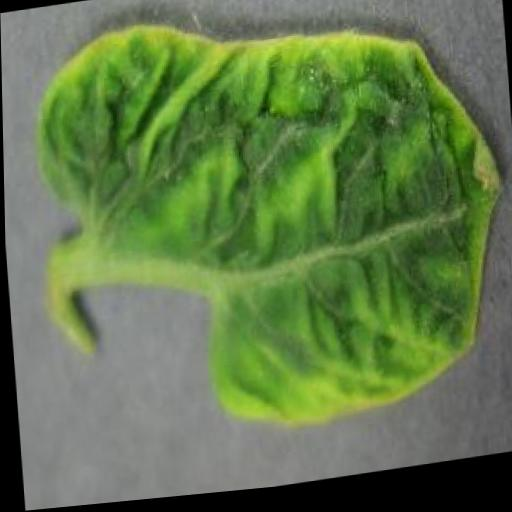Yellow Leaf Curl Virus: (25, 0, 512, 471)
